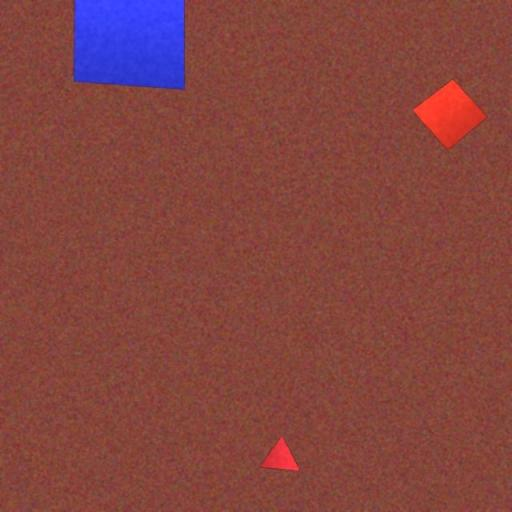BLUE_SQUARE: (72, 0, 185, 90)
RED_SQUARE: (411, 78, 489, 150)
